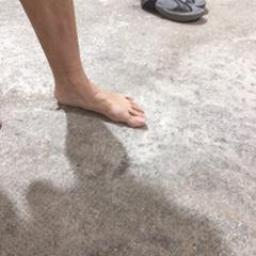Medial View -Left Foot-: (44, 56, 151, 136)
